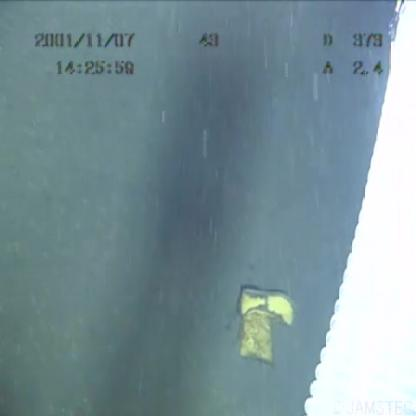Rov: (305, 1, 416, 416)
Rác: (214, 267, 308, 379)
